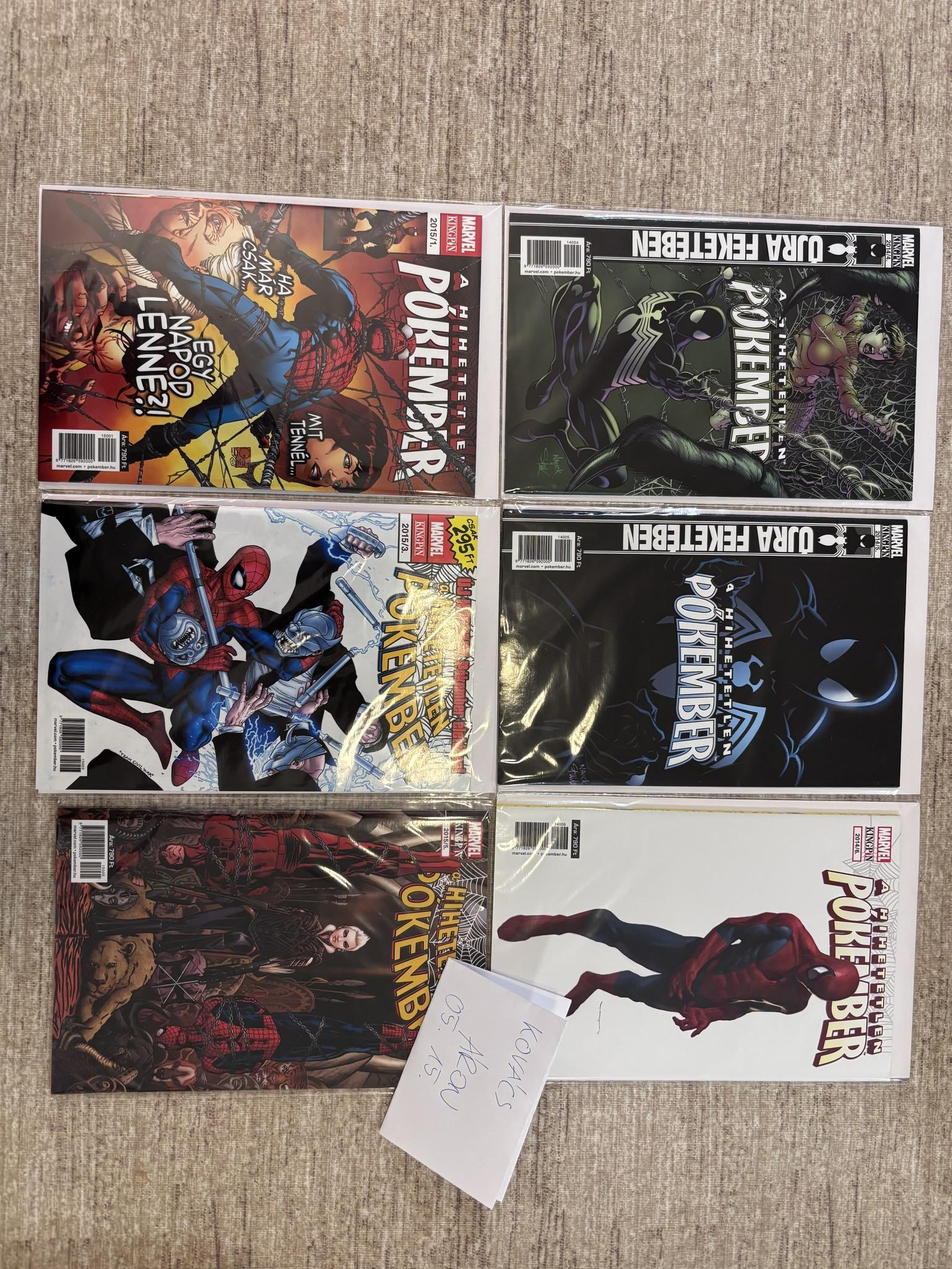comic: (30, 186, 509, 500), (37, 497, 498, 795), (495, 206, 944, 511), (48, 803, 493, 1093), (498, 505, 928, 795), (491, 798, 917, 1080)
